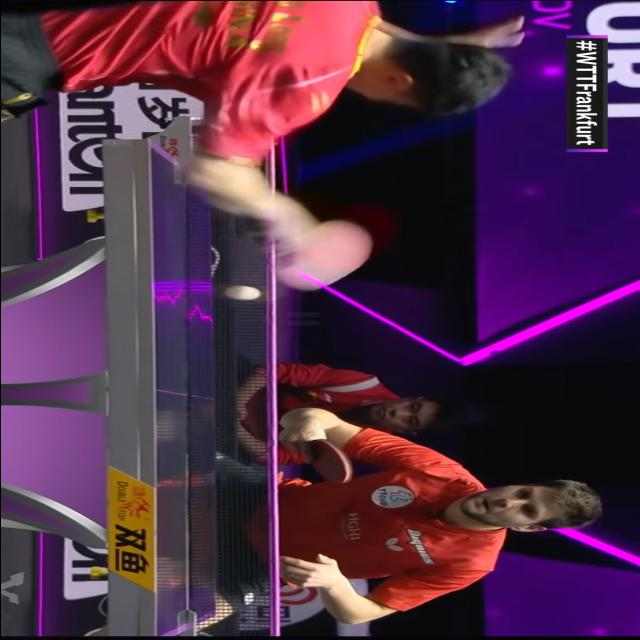TT Net: (183, 117, 278, 640)
TT Racket: (253, 189, 402, 313), (296, 432, 364, 492)
TT Table: (148, 140, 216, 640)
